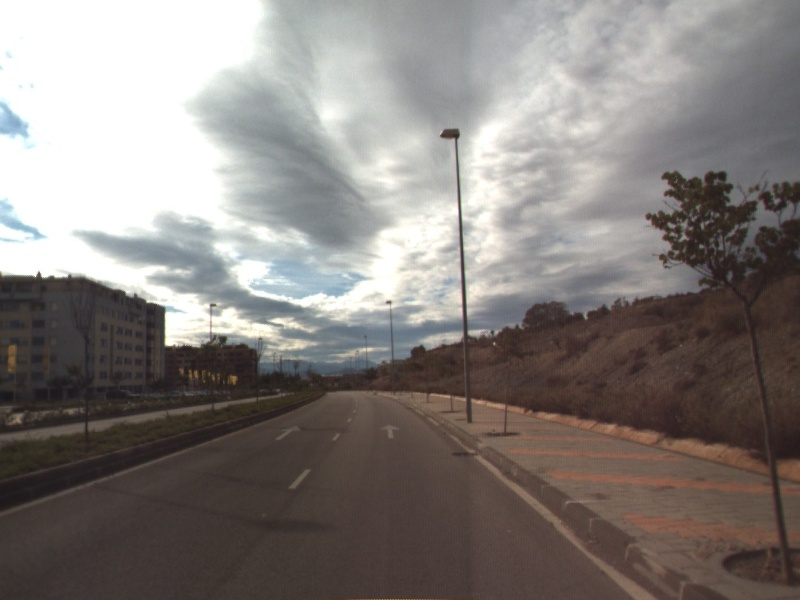STRAIGHT: (273, 424, 302, 442), (378, 422, 402, 440)
